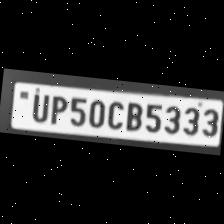0: (85, 94, 107, 128)
3: (198, 104, 221, 138), (160, 101, 181, 135), (180, 104, 201, 138)
5: (65, 94, 89, 128), (141, 99, 163, 133)
B: (122, 98, 144, 132)
C: (103, 96, 125, 130)
P: (46, 91, 68, 125)
U: (26, 90, 50, 123)
